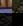cobwebT: (0, 13, 12, 26)
legs: (0, 0, 12, 13)
